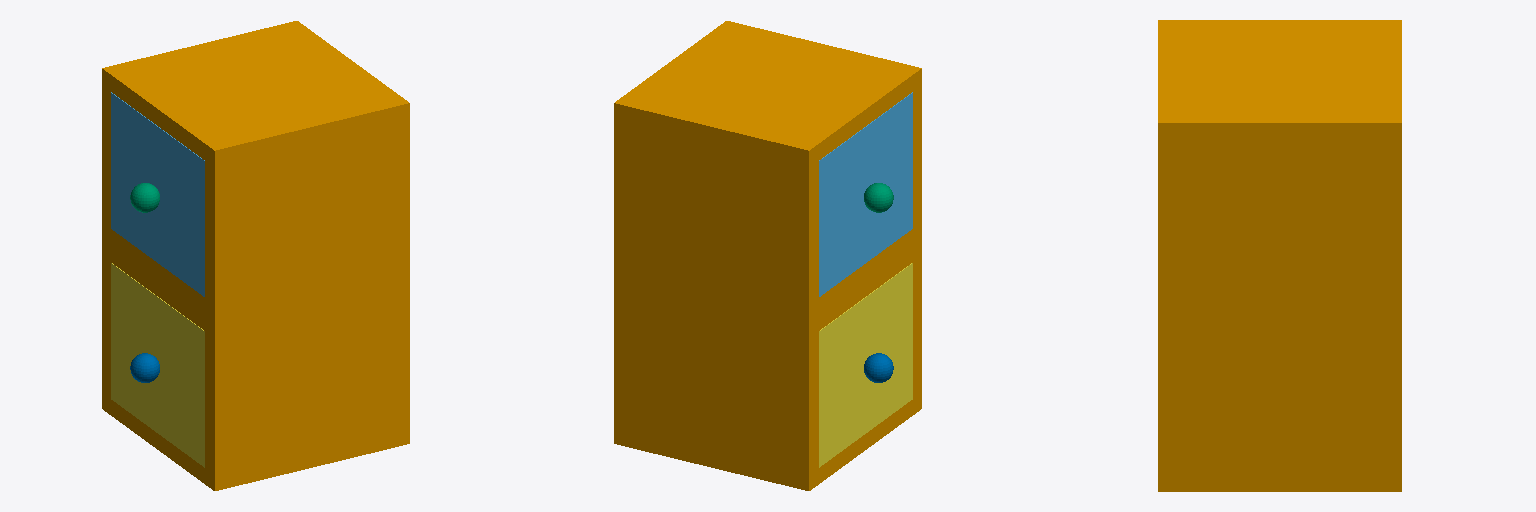
URDF robot description (drawer):
<?xml version="1.0"?>

<robot name="drawer" xmlns:xacro="http://www.ros.org/wiki/xacro">
  <!-- simplify the drawer as a box -->
  <link name="drawer">
    <inertial>
      <mass value="5.0" />
      <origin xyz="0 0 0.25" />
      <inertia  ixx="1.0" ixy="0.0"  ixz="0.0"  iyy="1.0"  iyz="0.0"  izz="1.0" />
    </inertial>
    <visual>
      <!-- visual origin is defined w.r.t. link local coordinate system -->
      <origin xyz="0 0 0.25" rpy="0 0 0" />
      <geometry>
        <box size="0.3 0.3 0.5" />
      </geometry>
    </visual>
    <collision>
      <!-- collision origin is defined w.r.t. link local coordinate system -->
      <origin xyz="0 0 0.25" rpy="0 0 0 " />
      <geometry>
        <box size="0.3 0.3 0.5" />
      </geometry>
    </collision>
  </link>
  <gazebo reference="drawer">
    <material>Gazebo/Wood</material>
    <turnGravityOff>false</turnGravityOff>
  </gazebo>

  <joint name="top_drawer_joint" type="prismatic" >
    <axis xyz="-1 0 0" />
    <parent link="drawer" />
    <child link="top_drawer" />
    <origin xyz="0 0 .375" rpy="0 0 0" />
    <limit lower="0.0" upper="0.2" effort="100" velocity="100" />
  </joint>
  <link name="top_drawer">
    <inertial>
      <mass value="0.5" />
      <origin xyz="0.2 0 0" />
      <inertia  ixx="1.0" ixy="0.0"  ixz="0.0"  iyy="1.0"  iyz="0.0"  izz="1.0" />
    </inertial>
    <visual>
      <origin xyz="-0.001 0 0" rpy="0 0 0" />
      <geometry>
        <box size="0.3 0.25 0.2" />
      </geometry>
    </visual>
    <collision>
      <origin xyz="-0.001 0 0" rpy="0 0 0" />
      <geometry>
        <box size="0.3 0.25 0.2" />
      </geometry>
    </collision>
  </link>
  <gazebo reference="top_drawer">
    <material>Gazebo/Green</material>
    <turnGravityOff>false</turnGravityOff>
    <dampingFactor>0.02</dampingFactor>
  </gazebo>

  <joint name="top_drawer_knob_joint" type="fixed" >
    <parent link="top_drawer" />
    <child link="top_drawer_knob" />
    <origin xyz="-0.15 0 0" rpy="0 0 0" />
  </joint>
  <link name="top_drawer_knob">
    <inertial>
      <mass value="0.1" />
      <origin xyz="0 0 0" />
      <inertia  ixx="0.1" ixy="0.0"  ixz="0.0"  iyy="0.1"  iyz="0.0"  izz="0.1" />
    </inertial>
    <visual>
      <origin xyz="-0.02 0 0" rpy="0 0 0" />
      <geometry>
        <sphere radius="0.02" />
      </geometry>
    </visual>
    <collision>
      <origin xyz="-0.02 0 0" rpy="0 0 0" />
      <geometry>
        <sphere radius="0.02" />
      </geometry>
    </collision>
  </link>
  <gazebo reference="top_drawer_knob">
    <dampingFactor>0.01</dampingFactor>
    <material>Gazebo/Red</material>
    <turnGravityOff>false</turnGravityOff>
  </gazebo>

  <joint name="bottom_drawer_joint" type="prismatic" >
    <axis xyz="-1 0 0" />
    <parent link="drawer" />
    <child link="bottom_drawer" />
    <origin xyz="0 0 .125" rpy="0 0 0" />
    <limit lower="0.0" upper="0.2" effort="100" velocity="100" />
  </joint>
  <link name="bottom_drawer">
    <inertial>
      <mass value="0.5" />
      <origin xyz="0.2 0 0" />
      <inertia  ixx="1.0" ixy="0.0"  ixz="0.0"  iyy="1.0"  iyz="0.0"  izz="1.0" />
    </inertial>
    <visual>
      <origin xyz="-0.001 0 0" rpy="0 0 0" />
      <geometry>
        <box size="0.3 0.25 0.2" />
      </geometry>
    </visual>
    <collision>
      <origin xyz="-0.001 0 0" rpy="0 0 0" />
      <geometry>
        <box size="0.3 0.25 0.2" />
      </geometry>
    </collision>
  </link>
  <gazebo reference="bottom_drawer">
    <material>Gazebo/Wood</material>
    <turnGravityOff>false</turnGravityOff>
    <dampingFactor>0.02</dampingFactor>
  </gazebo>

  <joint name="bottom_drawer_knob_joint" type="fixed" >
    <parent link="bottom_drawer" />
    <child link="bottom_drawer_knob" />
    <origin xyz="-0.15 0 0" rpy="0 0 0" />
  </joint>
  <link name="bottom_drawer_knob">
    <inertial>
      <mass value="0.1" />
      <origin xyz="0 0 0" />
      <inertia  ixx="0.1" ixy="0.0"  ixz="0.0"  iyy="0.1"  iyz="0.0"  izz="0.1" />
    </inertial>
    <visual>
      <origin xyz="-0.02 0 0" rpy="0 0 0" />
      <geometry>
        <sphere radius="0.02" />
      </geometry>
    </visual>
    <collision>
      <origin xyz="-0.02 0 0" rpy="0 0 0" />
      <geometry>
        <sphere radius="0.02" />
      </geometry>
    </collision>
  </link>
  <gazebo reference="bottom_drawer_knob">
    <dampingFactor>0.01</dampingFactor>
    <material>Gazebo/Red</material>
    <turnGravityOff>false</turnGravityOff>
  </gazebo>

  <gazebo>
    <plugin name="top_drawer_knob_p3d_controller" filename="libgazebo_ros_p3d.so">
        <alwaysOn>true</alwaysOn>
        <updateRate>100.0</updateRate>
        <bodyName>top_drawer_knob</bodyName>
        <frameName>drawer</frameName>
        <topicName>top_drawer_knob_pose</topicName>
        <!-- <interface:position name="top_drawer_knob_p3d_link_position"/> -->
    </plugin>
    <!--
    <plugin name="sim_iface_drawer_controller" filename="libgazebo_ros_sim_iface.so">
        <alwaysOn>true</alwaysOn>
        <modelName>drawer</modelName>
        <topicName>set_drawer_pose_topic</topicName>
        <serviceName>set_drawer_pose_service</serviceName>
        <frameName>/base_link</frameName>
        <xyz>0 0 0</xyz>
        <rpy>0 0 0</rpy>
        <vel>0 0 0</vel>
        <angVel>0 0 0</angVel>
        <interface:position name="sim_iface_drawer_position"/>
    </plugin>
   -->

  </gazebo>

</robot>

--- Facts derived from the render (not from the file) ---
The picture shows the robot from 3 angles, left to right: view 1: azimuth 30°, elevation 25°; view 2: azimuth 150°, elevation 25°; view 3: azimuth 270°, elevation 25°; orthographic projection.
Model drawer with 5 links and 4 joints (2 prismatic, 2 fixed), rooted at drawer, posed all joints at 0.
Visible links, largest first — view 1: drawer, top_drawer, bottom_drawer, top_drawer_knob, bottom_drawer_knob; view 2: drawer, top_drawer, bottom_drawer, top_drawer_knob, bottom_drawer_knob; view 3: drawer.
Boxes of the visible links, x1,y1,x2,y2 form: drawer: [102, 21, 409, 490]; top_drawer: [111, 92, 204, 296]; bottom_drawer: [111, 263, 204, 467]; top_drawer_knob: [130, 183, 159, 212]; bottom_drawer_knob: [130, 353, 159, 382]; drawer: [614, 21, 921, 490]; top_drawer: [819, 92, 912, 296]; bottom_drawer: [819, 263, 912, 467]; top_drawer_knob: [864, 183, 893, 212]; bottom_drawer_knob: [864, 353, 893, 382]; drawer: [1158, 20, 1401, 491].
Bounding box of the posed robot: 0.34 × 0.3 × 0.5 m (x, y, z).
Geometry: primitives only (box / cylinder / sphere), no mesh files.